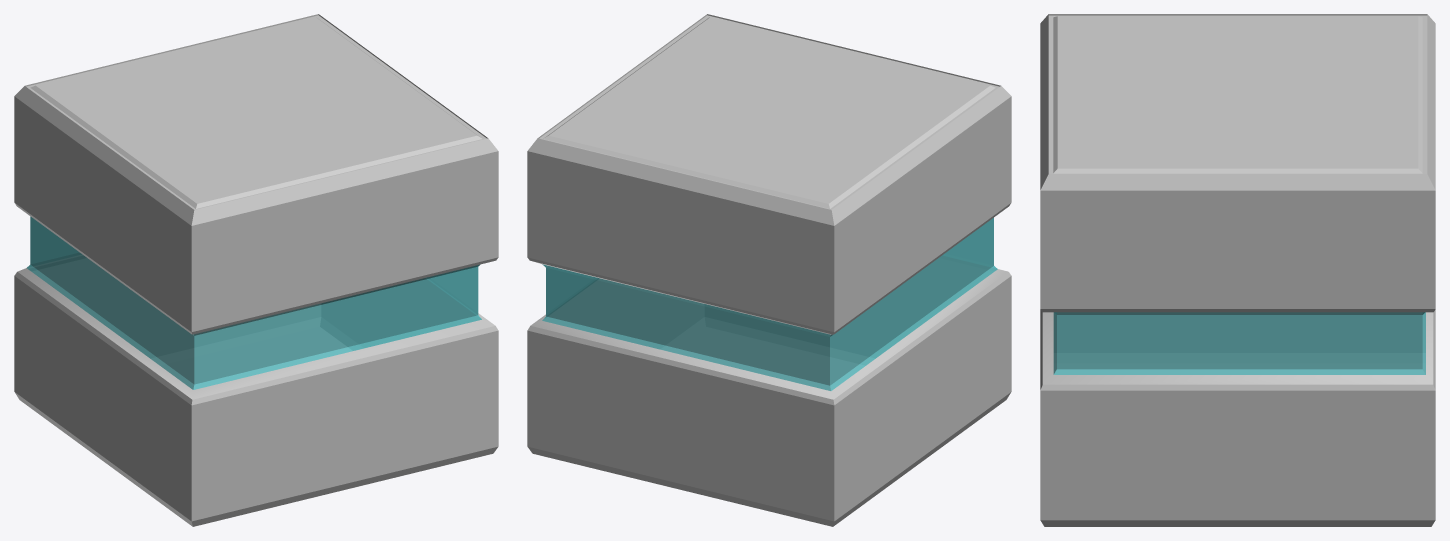
3 views of the same model, side by side, from view 1: azimuth 30°, elevation 25°; view 2: azimuth 150°, elevation 25°; view 3: azimuth 270°, elevation 25° (orthographic). The views are drawn at different scales.
Parts seen in each view (by area): view 1: pCube1; view 2: pCube1; view 3: pCube1.
Part boxes in pixels (<box>): pCube1: <box>14,14,498,526</box>; pCube1: <box>527,14,1011,526</box>; pCube1: <box>1040,14,1435,526</box>.
Size of the model in its own units: 10 by 9.85 by 10.
